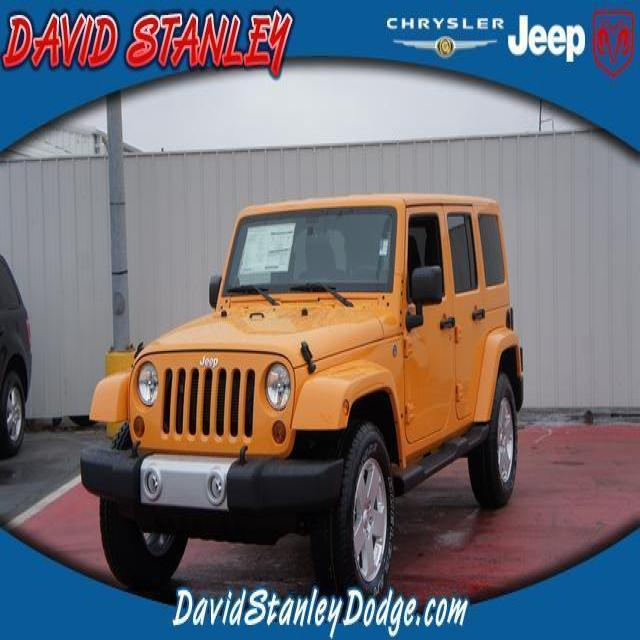Jeep: (61, 160, 568, 592)
